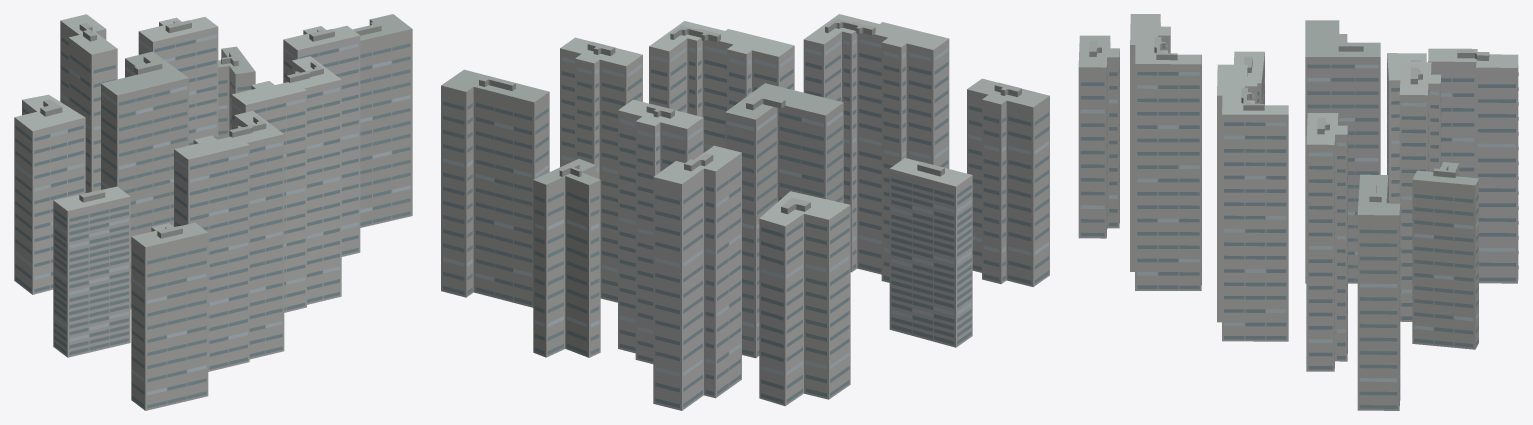
The model's file is apt-a10026051.glb.
3 renders of one model, left to right at view 1: azimuth 30°, elevation 25°; view 2: azimuth 150°, elevation 25°; view 3: azimuth 270°, elevation 25°, orthographic. The views are drawn at different scales.
Visible parts, largest first — view 1: apt-a10026051; view 2: apt-a10026051; view 3: apt-a10026051.
Part boxes in pixels (bbox=[...]): apt-a10026051: bbox=[14, 14, 412, 410]; apt-a10026051: bbox=[441, 14, 1049, 410]; apt-a10026051: bbox=[1078, 14, 1518, 410].
Size of the model in its own units: 198 by 104 by 179.
